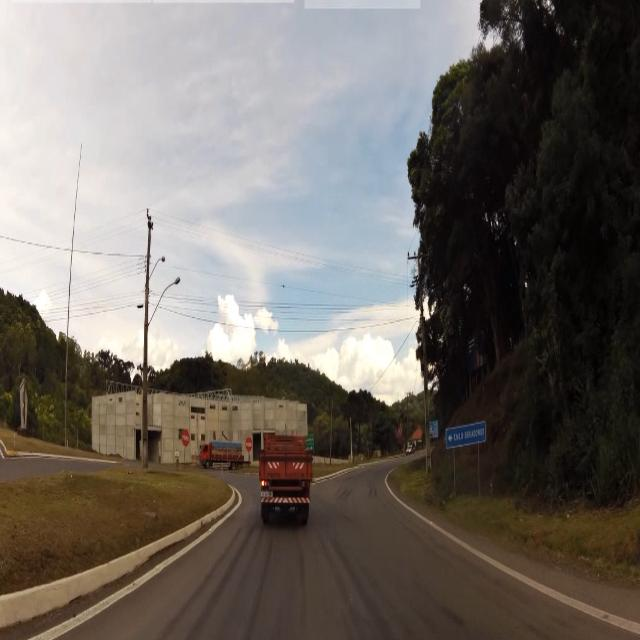LOC-6: (447, 427, 487, 444)
R-1: (178, 424, 192, 447), (245, 439, 254, 454)
